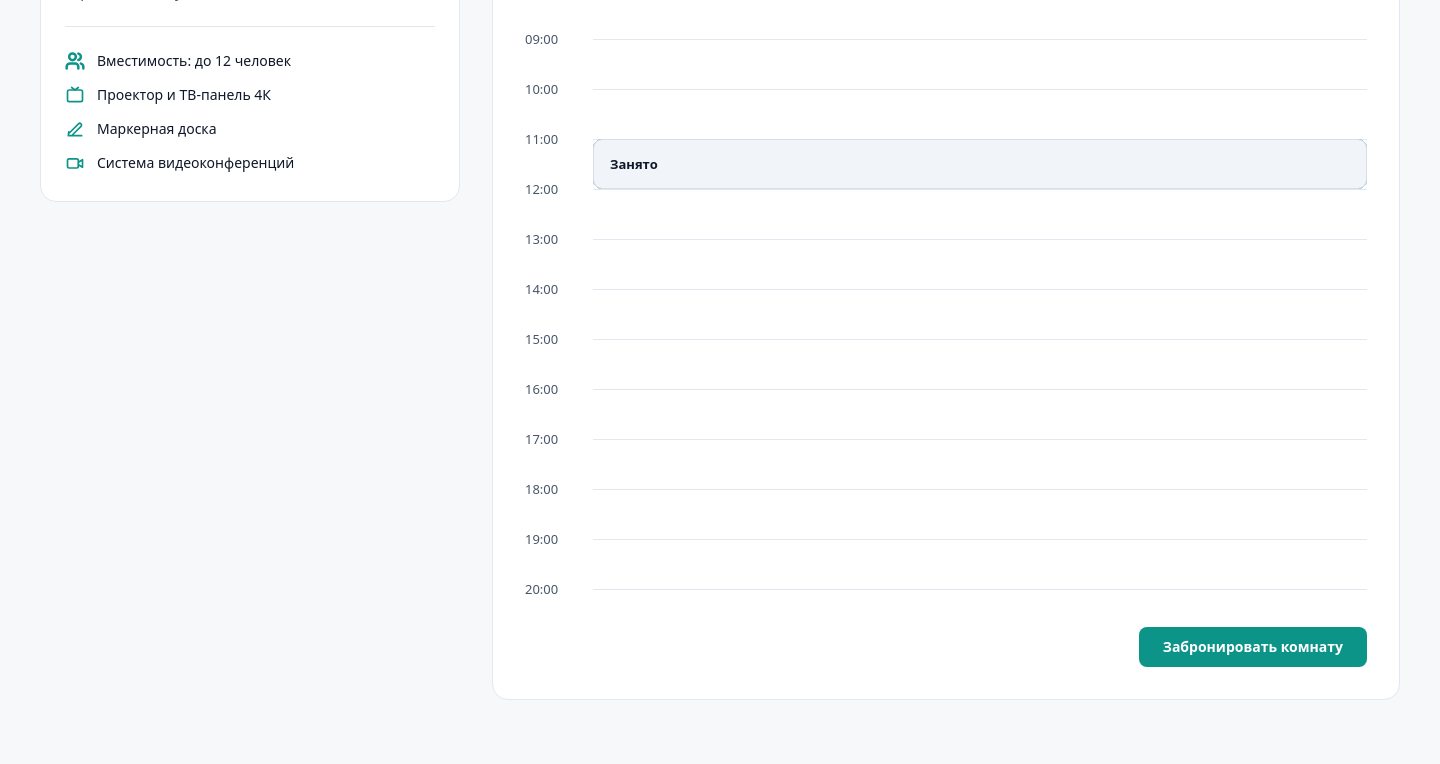
Test: RoomPage › закрывает форму бронирования без отправки
The image size is (1440, 764).
(page scrolled)
Click the button "Забронировать комнату". click: x=1253, y=647
box: [1139, 627, 1367, 667]
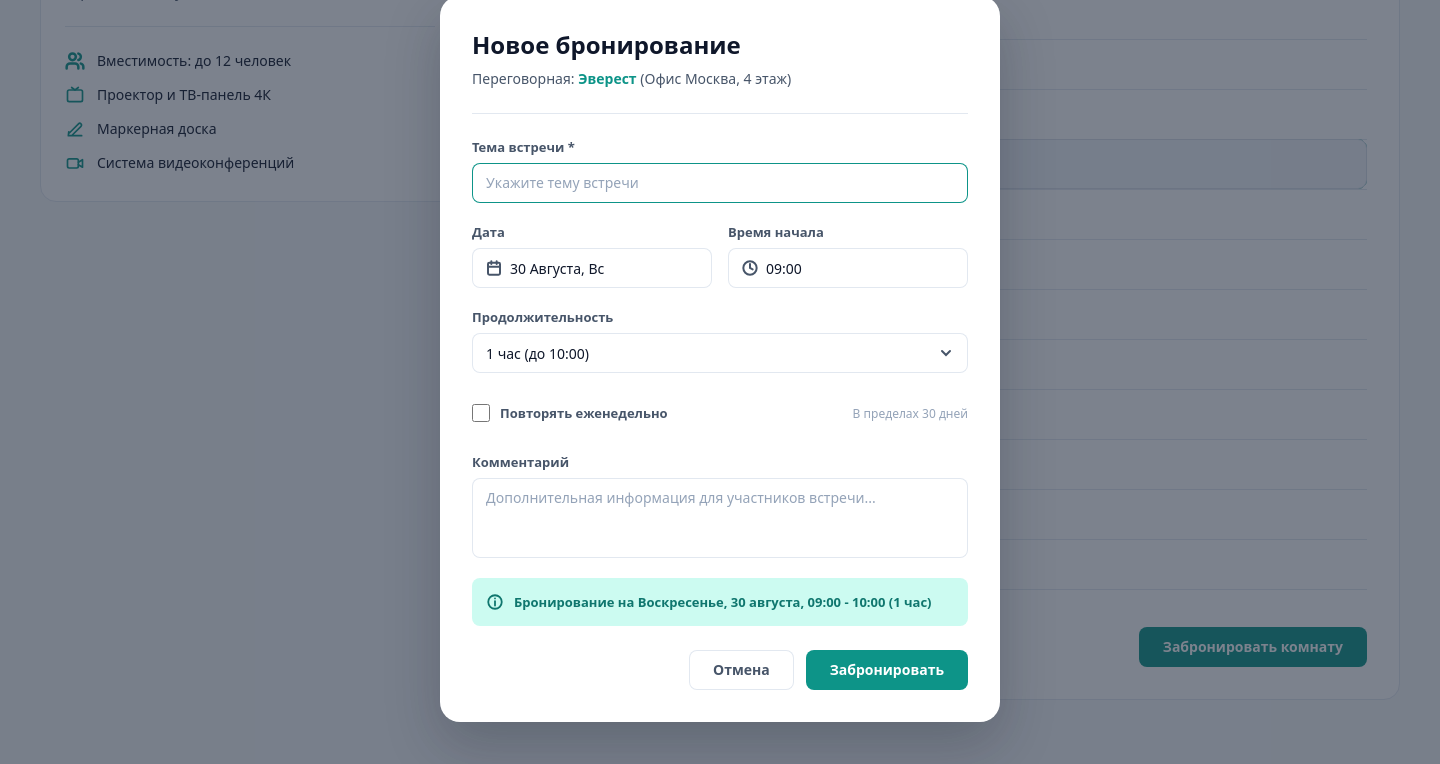
Click the button "Отмена". click: x=741, y=670
box: [689, 650, 794, 690]
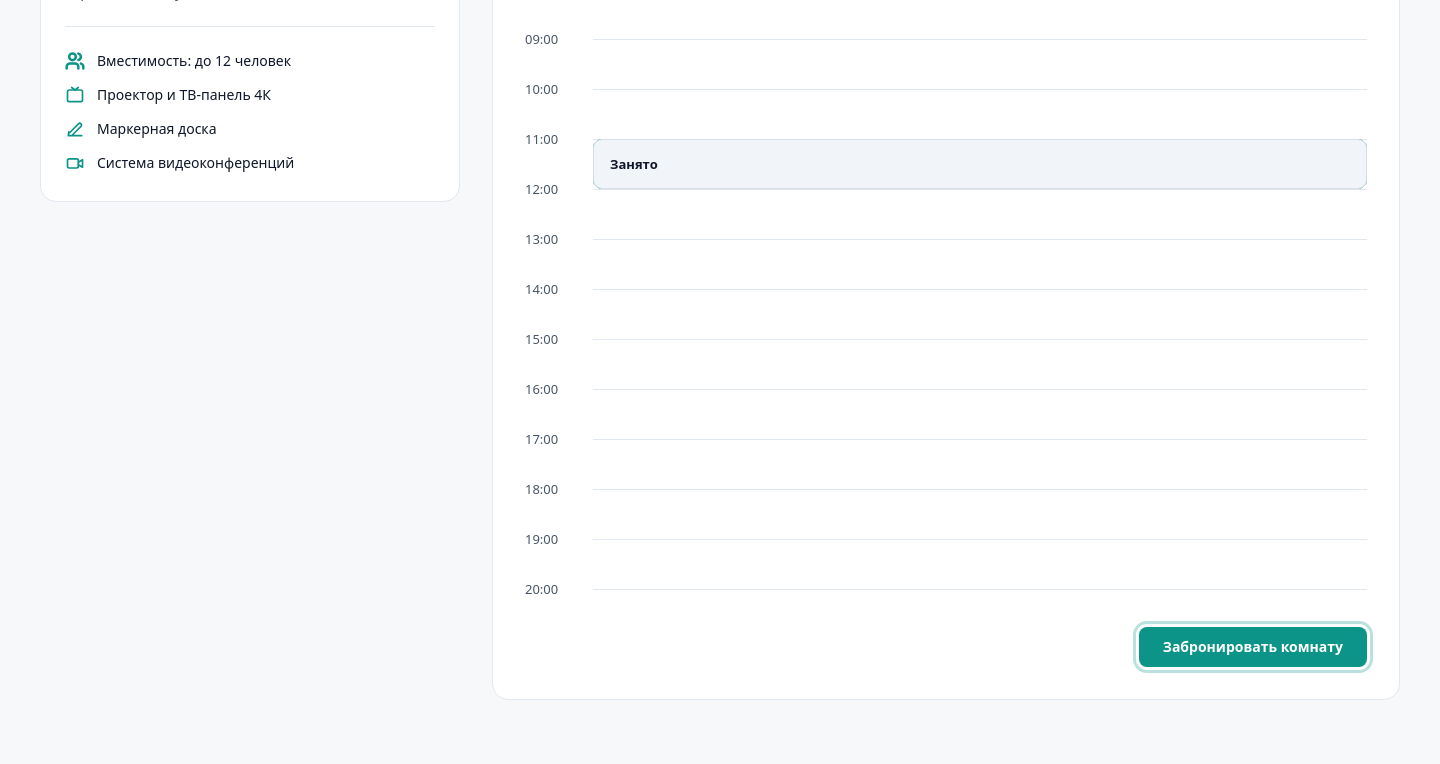
Expected: the heading "Новое бронирование" is gone
